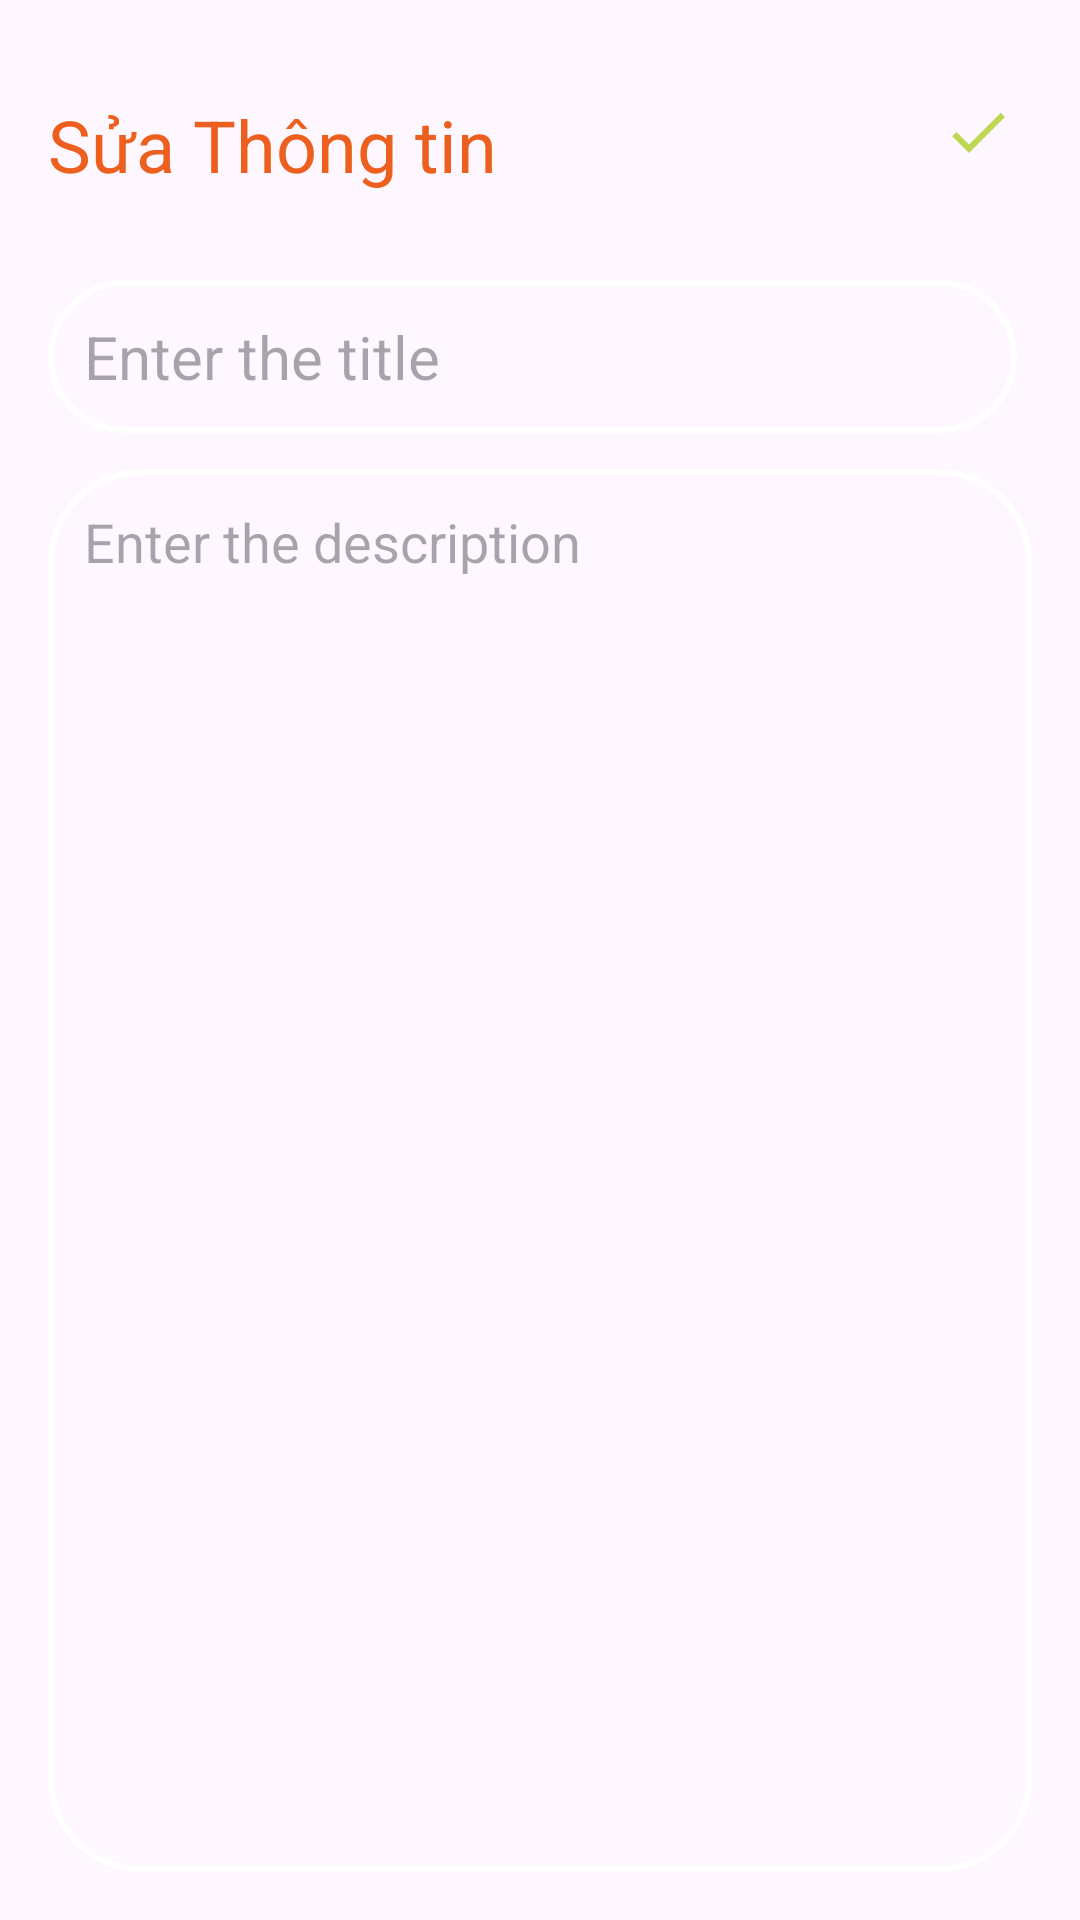

Icons on this 1080 × 1920 Android screen, each with the point to tap as point (x, y):
done: point (978, 133)
